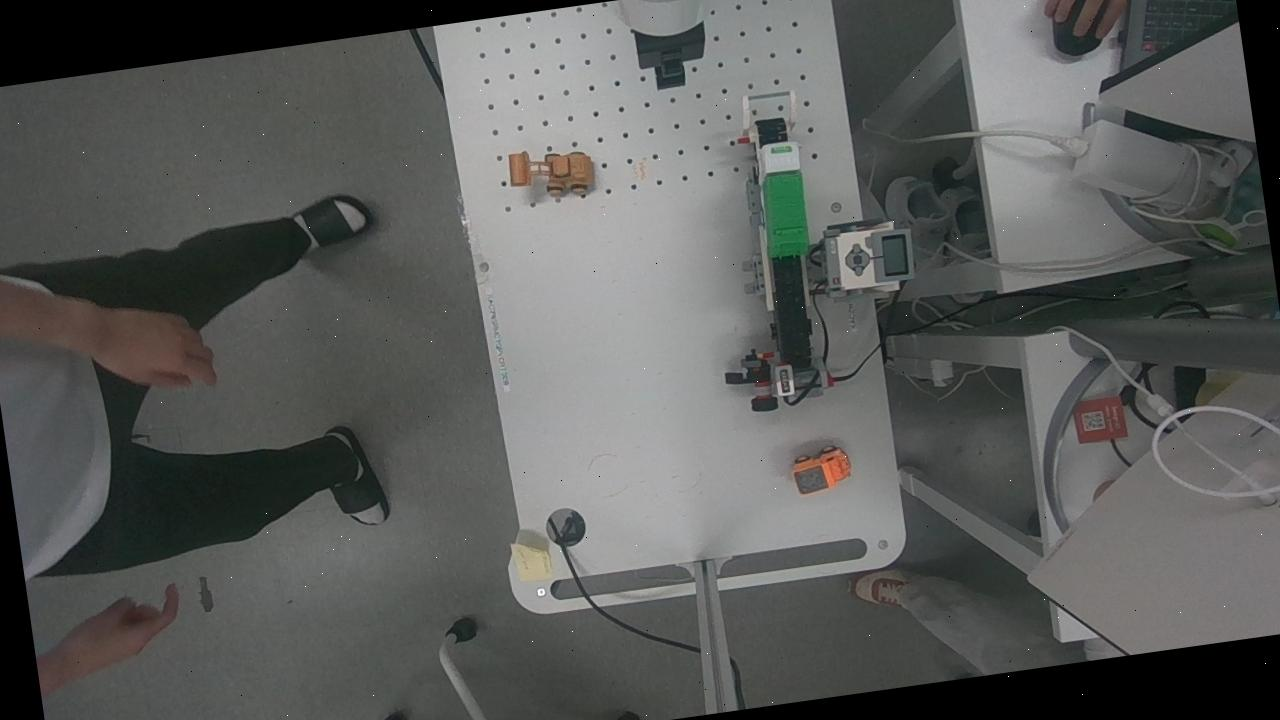green_car: (754, 134, 818, 268)
orange_car: (784, 438, 854, 500)
yellow_car: (504, 136, 604, 212)
